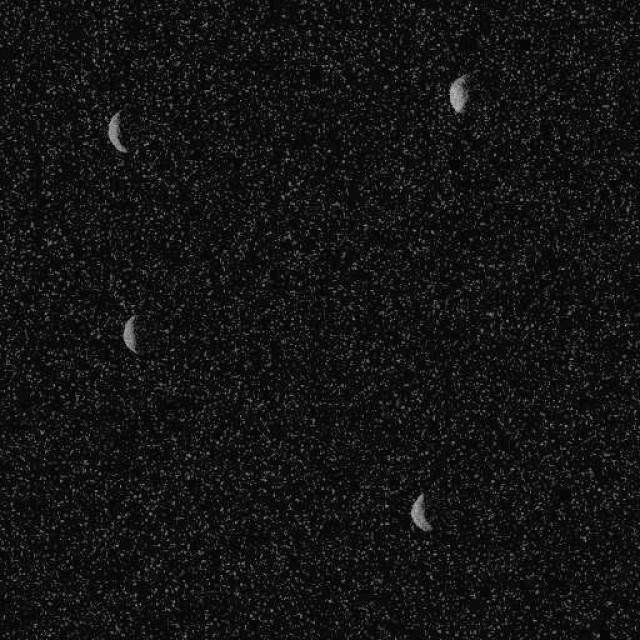D2: (106, 108, 128, 154), (408, 492, 432, 532), (448, 71, 470, 114), (121, 312, 139, 353)
